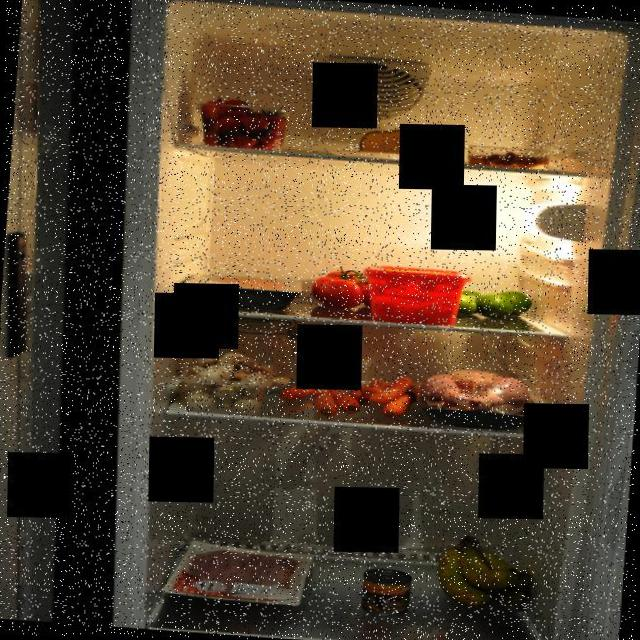Carne cerdo: (185, 542, 308, 608)
Carne pollo: (412, 365, 542, 431)
Carne vacuno: (182, 270, 305, 314)
Champiñones: (170, 348, 291, 418)
Gambas/Langostinos: (464, 150, 551, 173)
Mantequilla: (361, 266, 470, 326)
Plátano: (425, 530, 544, 616)
Queso: (354, 120, 425, 158)
Tomate: (306, 259, 392, 314)
Zanahoria: (274, 366, 418, 424)
